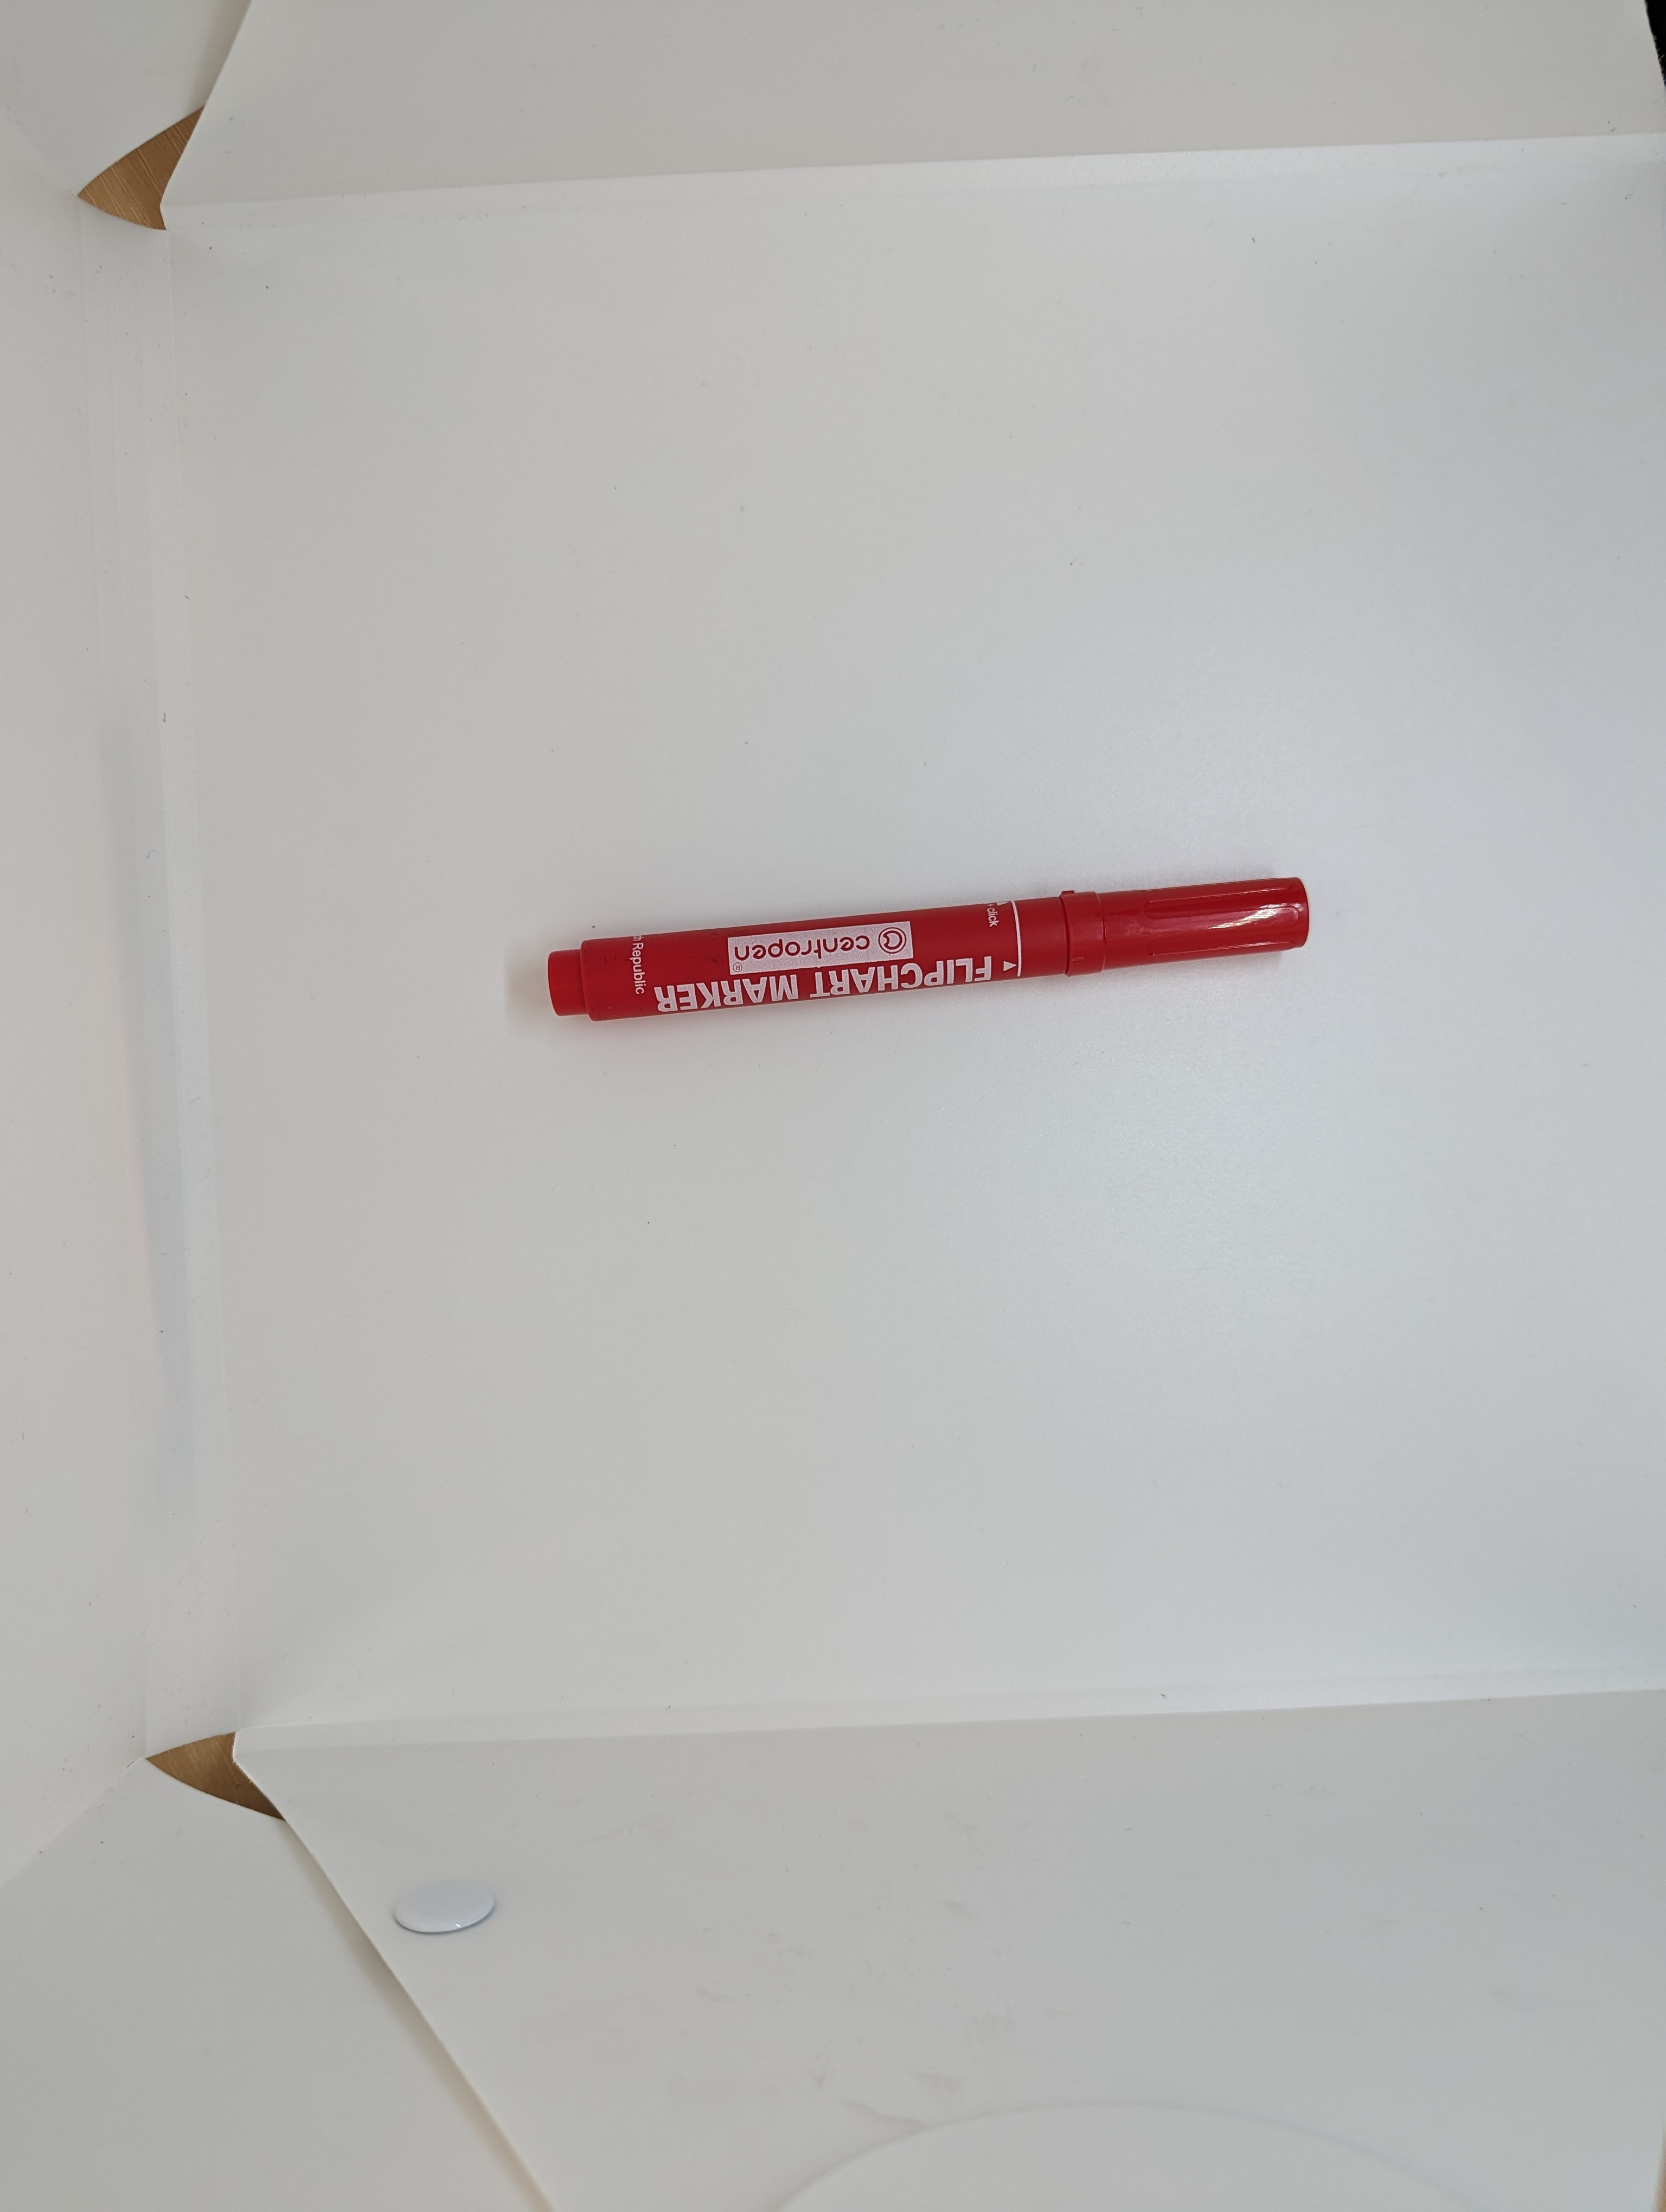red-red-stylo: (516, 873, 1355, 1035)
